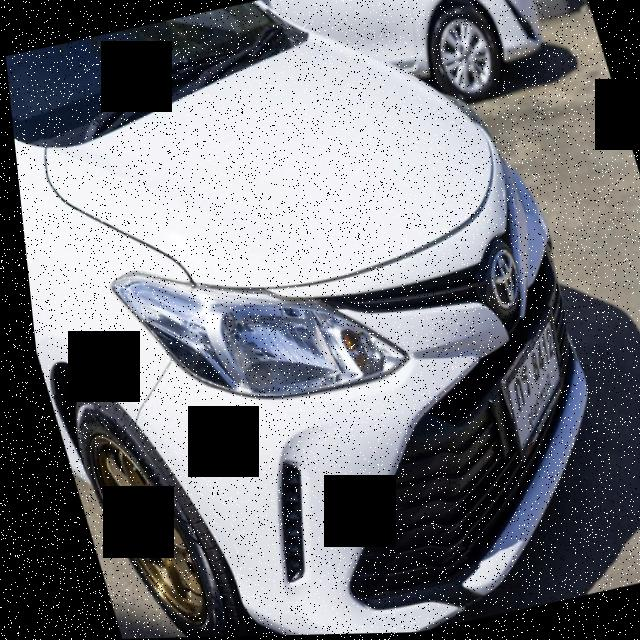text: (500, 323, 552, 451)
